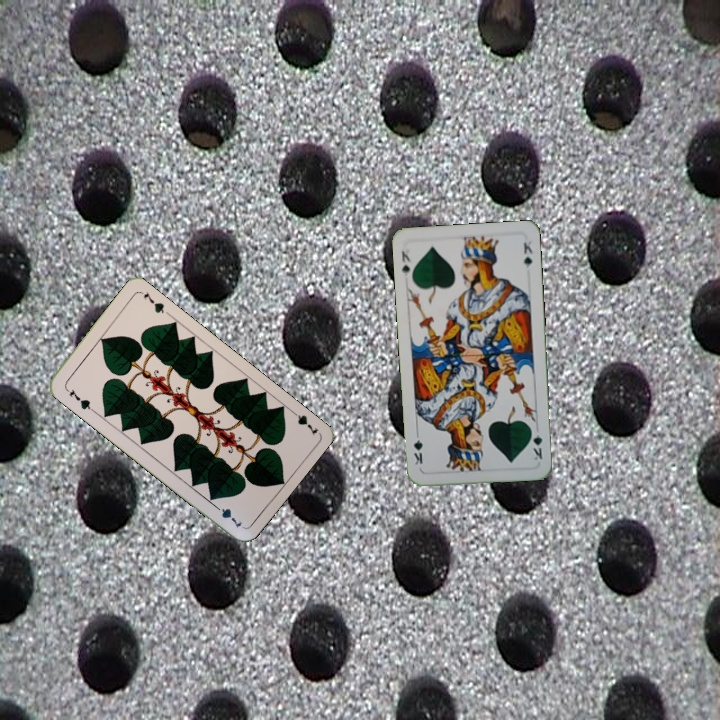G7: (286, 405, 321, 438), (61, 384, 96, 413)
GK: (527, 424, 545, 463), (397, 246, 414, 283)
